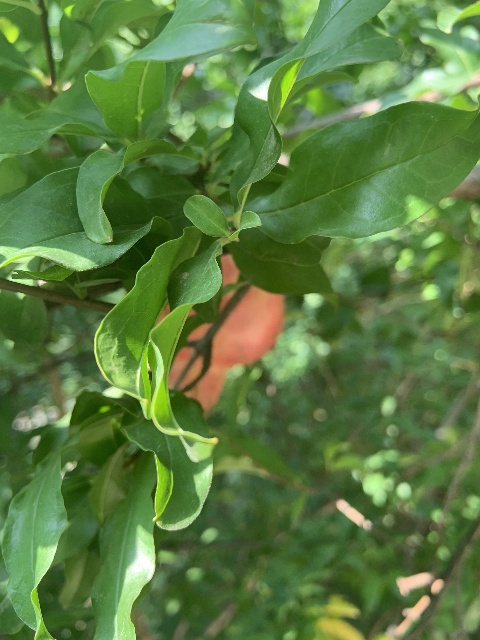ripe: (156, 254, 286, 422)
